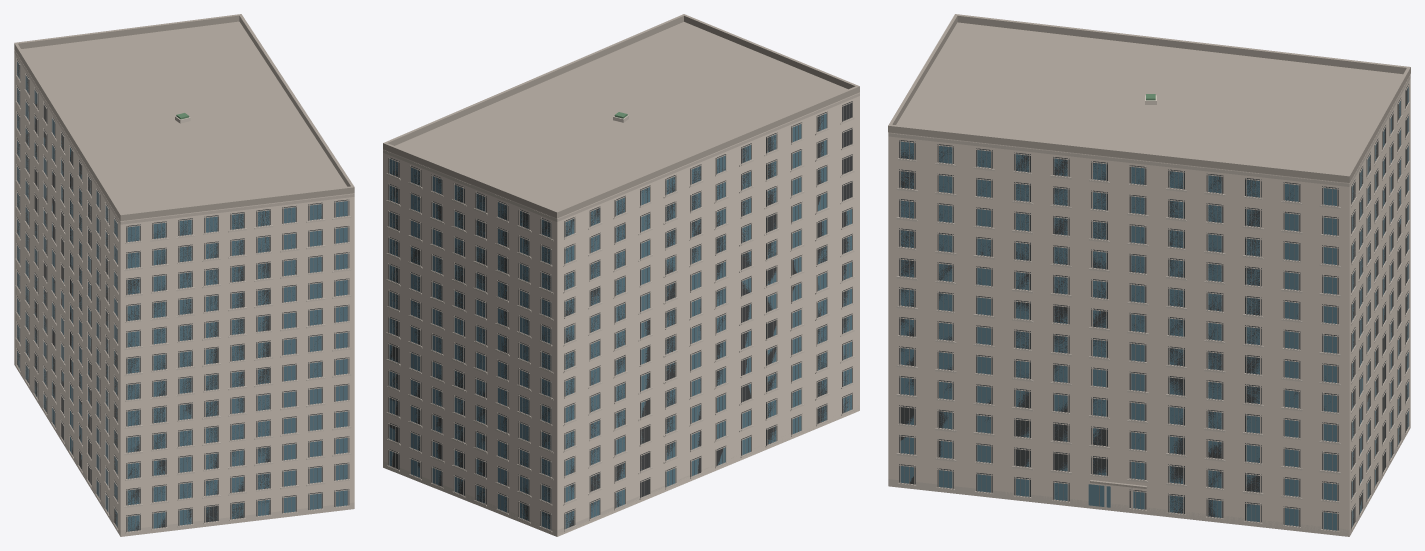
File: cop_misto_loja_terrea_03__way_134013760.fbx
3 renders of one model, left to right at view 1: azimuth 30°, elevation 25°; view 2: azimuth 150°, elevation 25°; view 3: azimuth 270°, elevation 25°, orthographic. The views are drawn at different scales.
Parts seen in each view (by area): view 1: cop_misto_loja_terrea_03__way_134013760_wall, cop_misto_loja_terrea_03__way_134013760_roof, cop_misto_loja_terrea_03__way_134013760_glass, cop_misto_loja_terrea_03__way_134013760_shadow, cop_misto_loja_terrea_03__way_134013760_trim, cop_misto_loja_terrea_03__way_134013760_stone, cop_misto_loja_terrea_03__way_134013760_metal; view 2: cop_misto_loja_terrea_03__way_134013760_wall, cop_misto_loja_terrea_03__way_134013760_roof, cop_misto_loja_terrea_03__way_134013760_glass, cop_misto_loja_terrea_03__way_134013760_shadow, cop_misto_loja_terrea_03__way_134013760_trim, cop_misto_loja_terrea_03__way_134013760_stone, cop_misto_loja_terrea_03__way_134013760_metal; view 3: cop_misto_loja_terrea_03__way_134013760_wall, cop_misto_loja_terrea_03__way_134013760_roof, cop_misto_loja_terrea_03__way_134013760_glass, cop_misto_loja_terrea_03__way_134013760_shadow, cop_misto_loja_terrea_03__way_134013760_trim, cop_misto_loja_terrea_03__way_134013760_stone, cop_misto_loja_terrea_03__way_134013760_metal.
Boxes of the visible parts, x1,y1,x2,y2 form: cop_misto_loja_terrea_03__way_134013760_wall: (14, 49, 354, 530); cop_misto_loja_terrea_03__way_134013760_roof: (14, 14, 354, 220); cop_misto_loja_terrea_03__way_134013760_glass: (17, 61, 347, 531); cop_misto_loja_terrea_03__way_134013760_shadow: (17, 59, 349, 531); cop_misto_loja_terrea_03__way_134013760_trim: (14, 50, 354, 532); cop_misto_loja_terrea_03__way_134013760_stone: (14, 75, 354, 536); cop_misto_loja_terrea_03__way_134013760_metal: (17, 62, 343, 530); cop_misto_loja_terrea_03__way_134013760_wall: (383, 92, 859, 536); cop_misto_loja_terrea_03__way_134013760_roof: (383, 14, 859, 218); cop_misto_loja_terrea_03__way_134013760_glass: (389, 113, 851, 529); cop_misto_loja_terrea_03__way_134013760_shadow: (388, 101, 852, 530); cop_misto_loja_terrea_03__way_134013760_trim: (383, 93, 859, 530); cop_misto_loja_terrea_03__way_134013760_stone: (383, 115, 859, 536); cop_misto_loja_terrea_03__way_134013760_metal: (392, 104, 849, 528); cop_misto_loja_terrea_03__way_134013760_wall: (888, 74, 1410, 536); cop_misto_loja_terrea_03__way_134013760_roof: (888, 14, 1410, 488); cop_misto_loja_terrea_03__way_134013760_glass: (900, 87, 1408, 530); cop_misto_loja_terrea_03__way_134013760_shadow: (899, 84, 1408, 530); cop_misto_loja_terrea_03__way_134013760_trim: (888, 75, 1410, 531); cop_misto_loja_terrea_03__way_134013760_stone: (888, 95, 1410, 536); cop_misto_loja_terrea_03__way_134013760_metal: (904, 88, 1407, 530).
Bounding box in the file's own units: 3542 × 3669 × 4819.
